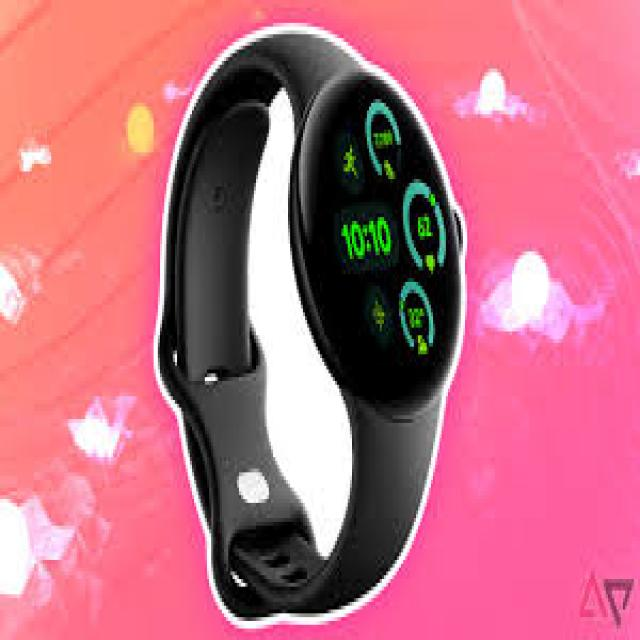objects: (158, 27, 463, 621)
